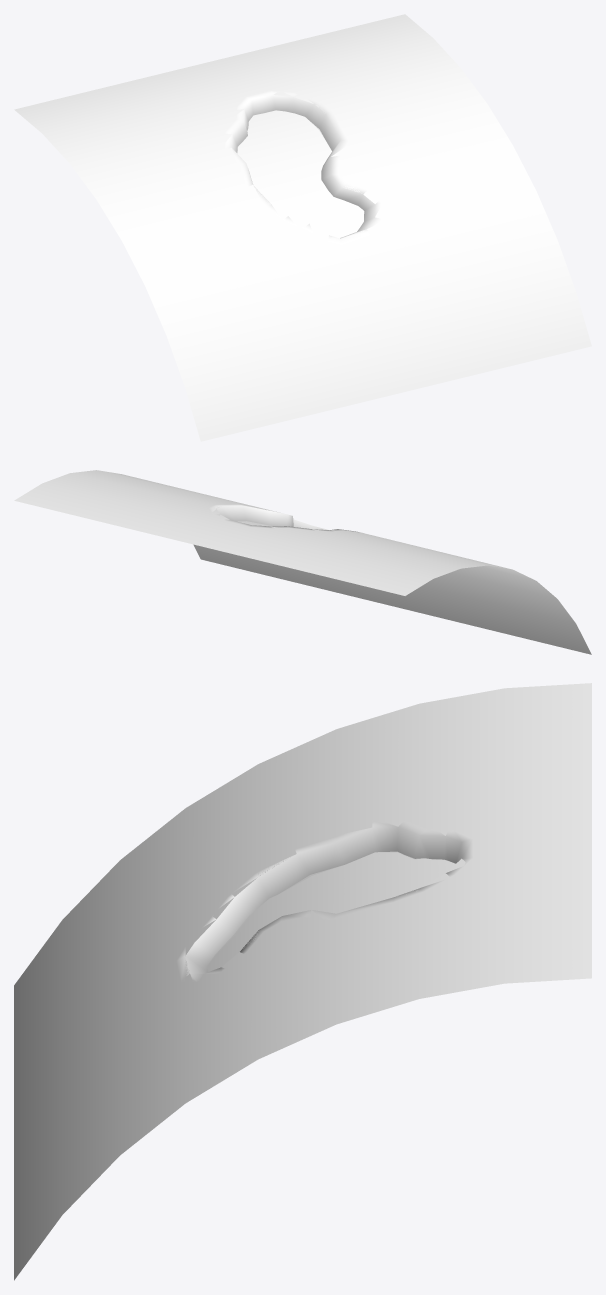
File: grd_F_4.dae
The picture shows the model from 3 angles, top to bottom: view 1: azimuth 30°, elevation 25°; view 2: azimuth 150°, elevation 25°; view 3: azimuth 270°, elevation 25°; orthographic projection. The views are drawn at different scales.
Parts seen in each view (by area): view 1: grd_F_4; view 2: grd_F_4; view 3: grd_F_4.
Boxes of the visible parts, x1=… form: grd_F_4: x1=14, y1=14, x2=591, y2=441; grd_F_4: x1=14, y1=470, x2=591, y2=654; grd_F_4: x1=14, y1=683, x2=591, y2=1280.
Bounding box in the file's own units: 512 × 244 × 423.
4 materials, 1 textured.
